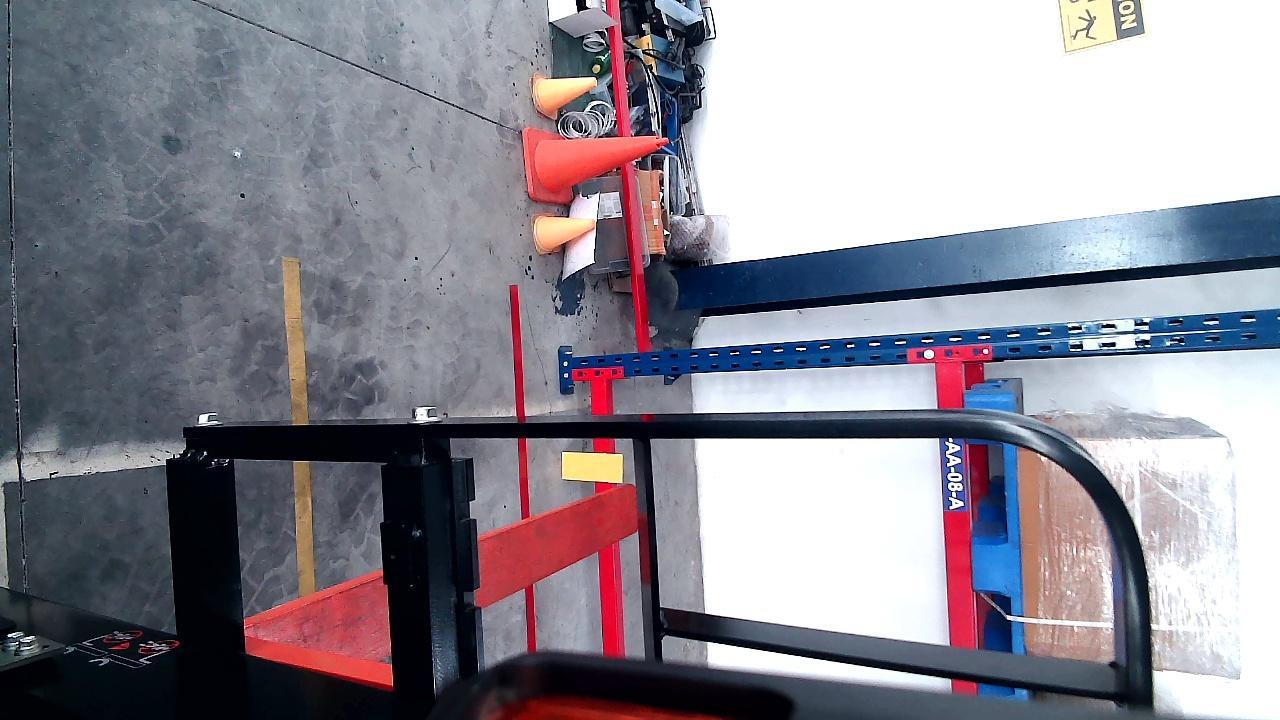red_line: (504, 285, 535, 653)
yellow_line: (282, 249, 319, 597)
